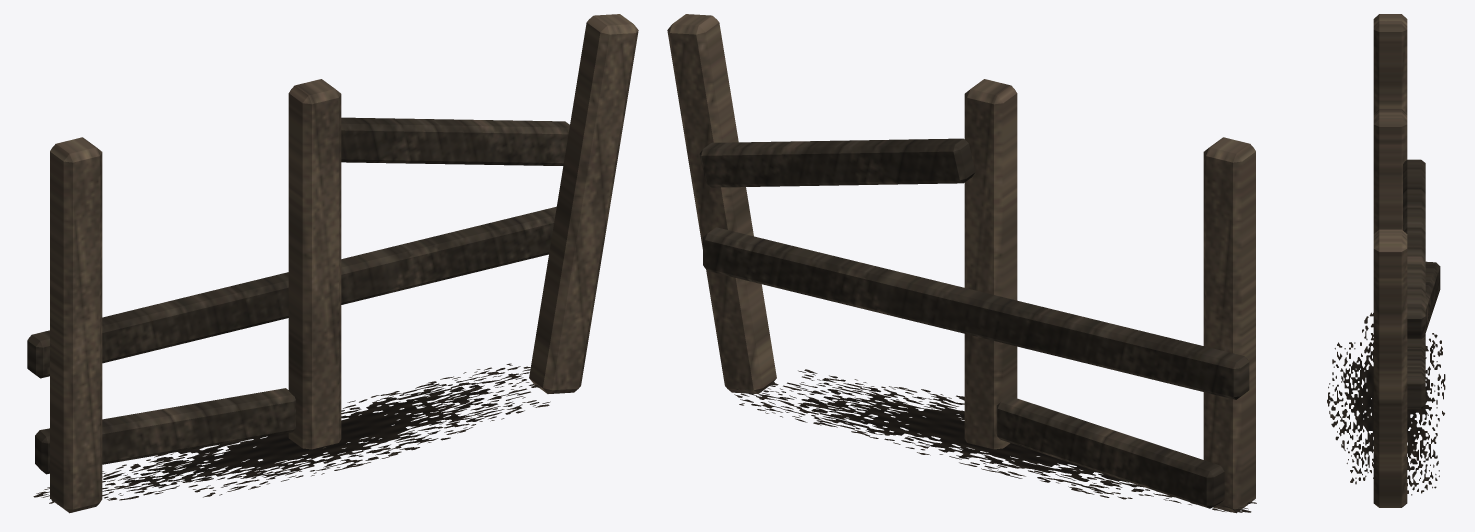
The model's file is fence_broken.glb.
3 renders of one model, left to right at view 1: azimuth 30°, elevation 25°; view 2: azimuth 150°, elevation 25°; view 3: azimuth 270°, elevation 25°, orthographic. The views are drawn at different scales.
Parts seen in each view (by area): view 1: fence_broken; view 2: fence_broken; view 3: fence_broken.
Boxes of the visible parts, x1,y1,x2,y2 form: fence_broken: (27, 14, 638, 513); fence_broken: (667, 14, 1256, 513); fence_broken: (1327, 14, 1445, 507).
Size of the model in its own units: 1.61 by 0.9031 by 0.39.
2 materials, 2 textured.
